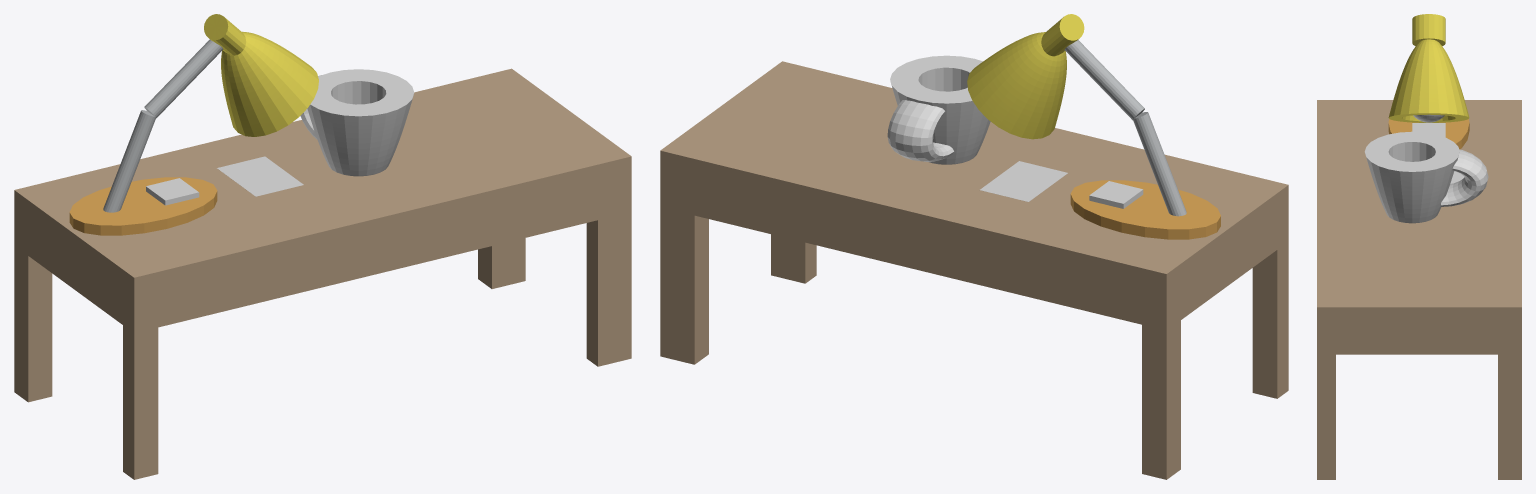
Rendered from Fabulous Maimu-Rottis.glb.
3 views of the same model, side by side, from view 1: azimuth 30°, elevation 25°; view 2: azimuth 150°, elevation 25°; view 3: azimuth 270°, elevation 25° (orthographic). The views are drawn at different scales.
Visible parts, largest first — view 1: Mesh_Mesh_head_geo.001_lambert2SG.001; view 2: Mesh_Mesh_head_geo.001_lambert2SG.001; view 3: Mesh_Mesh_head_geo.001_lambert2SG.001.
Boxes of the visible parts, left/top/right/bottom form: Mesh_Mesh_head_geo.001_lambert2SG.001: left=14, top=14, right=631, bottom=479; Mesh_Mesh_head_geo.001_lambert2SG.001: left=660, top=14, right=1288, bottom=479; Mesh_Mesh_head_geo.001_lambert2SG.001: left=1317, top=14, right=1521, bottom=479.
Bounding box in the file's own units: 103 × 74.82 × 43.
